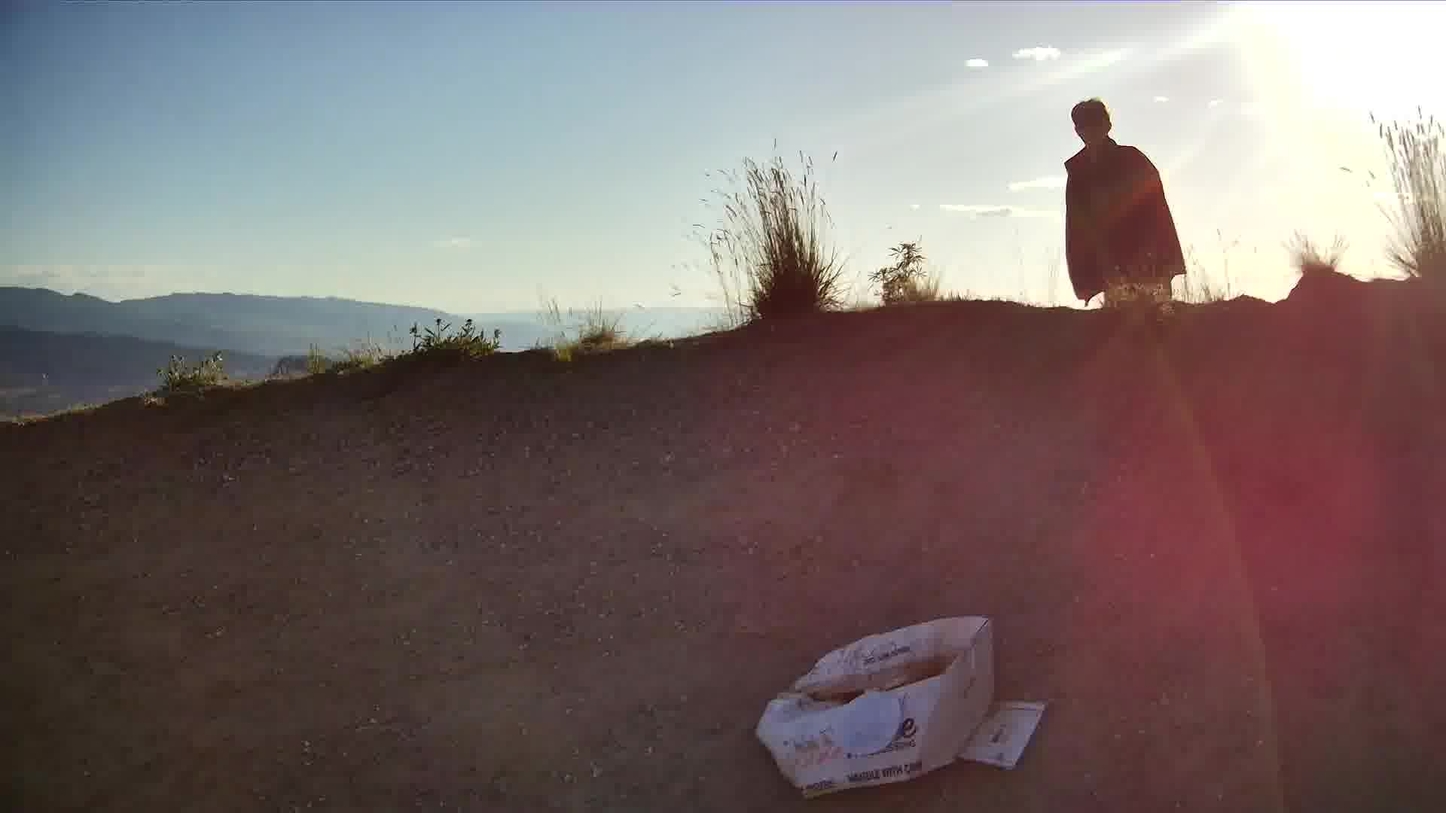Target: (833, 685, 899, 757)
